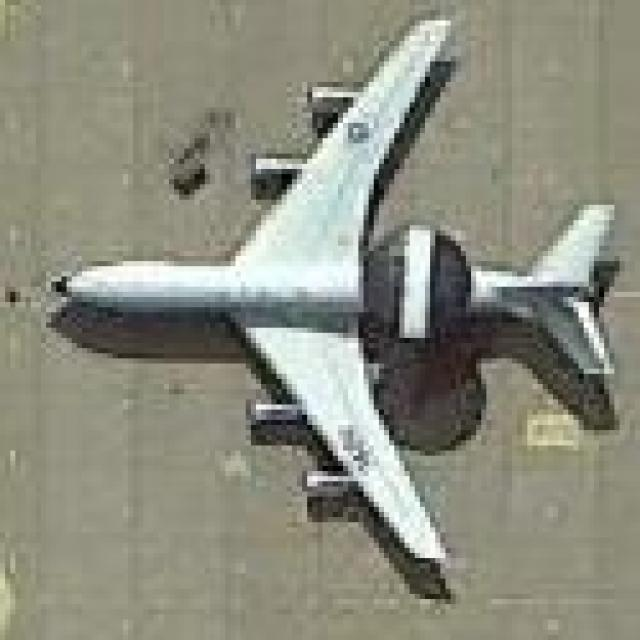E-3_TopDown: (41, 10, 625, 599)
